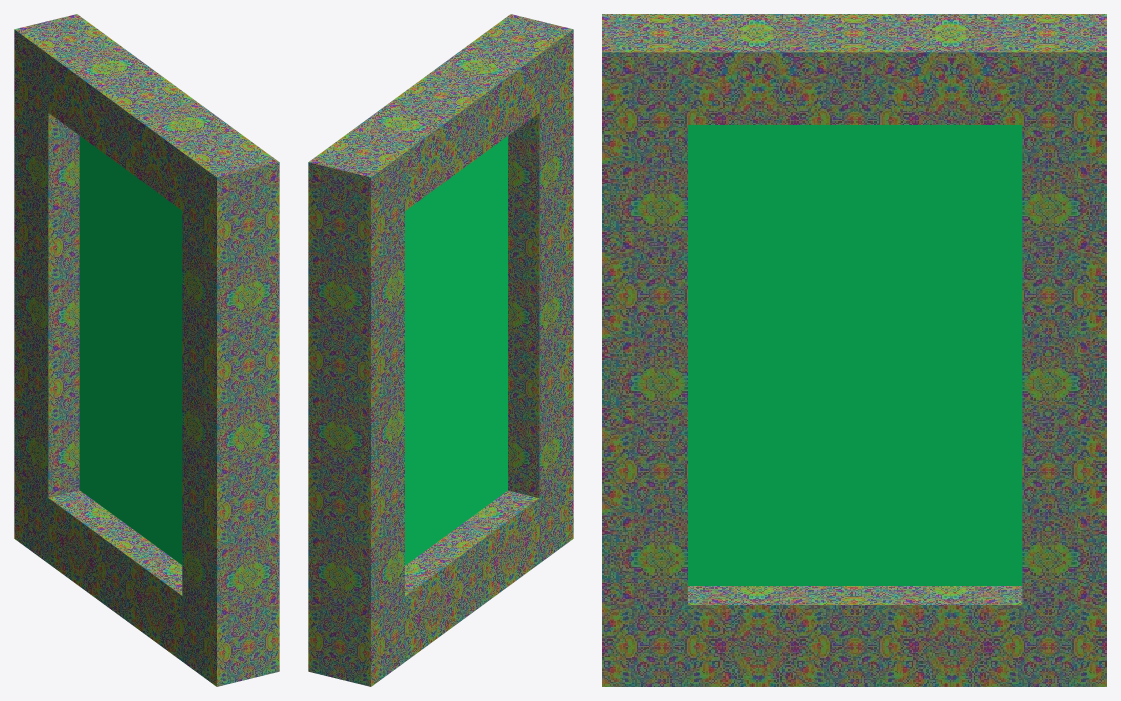
The model's file is pool_portal_gate.glb.
3 renders of one model, left to right at view 1: azimuth 30°, elevation 25°; view 2: azimuth 150°, elevation 25°; view 3: azimuth 270°, elevation 25°, orthographic. The views are drawn at different scales.
Parts seen in each view (by area): view 1: gate, portal; view 2: gate, portal; view 3: gate, portal.
Part boxes in pixels (box(x1,y1,x2,y2)): gate: box(14, 14, 279, 686); portal: box(79, 136, 182, 564); gate: box(308, 14, 573, 686); portal: box(405, 136, 507, 565); gate: box(602, 14, 1106, 686); portal: box(688, 125, 1022, 585).
Size of the model in its own units: 1 by 7.75 by 5.58.
Materials: 2 (1 with a texture image).
